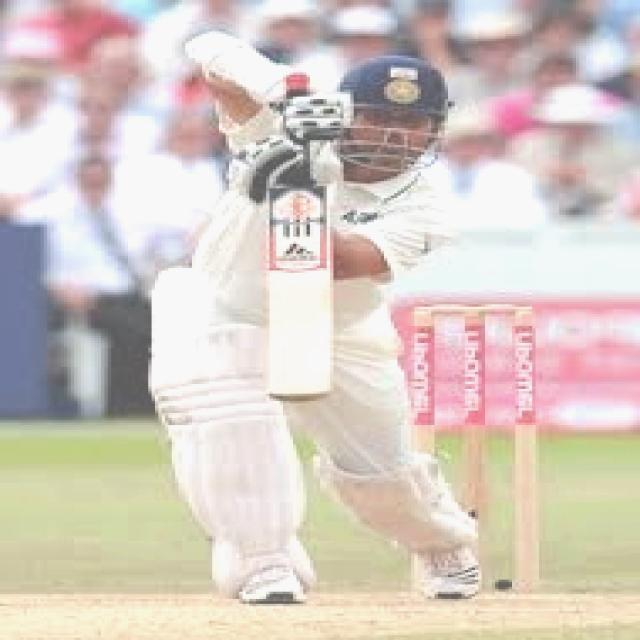bat: (254, 184, 347, 407)
toe: (269, 390, 329, 404)
